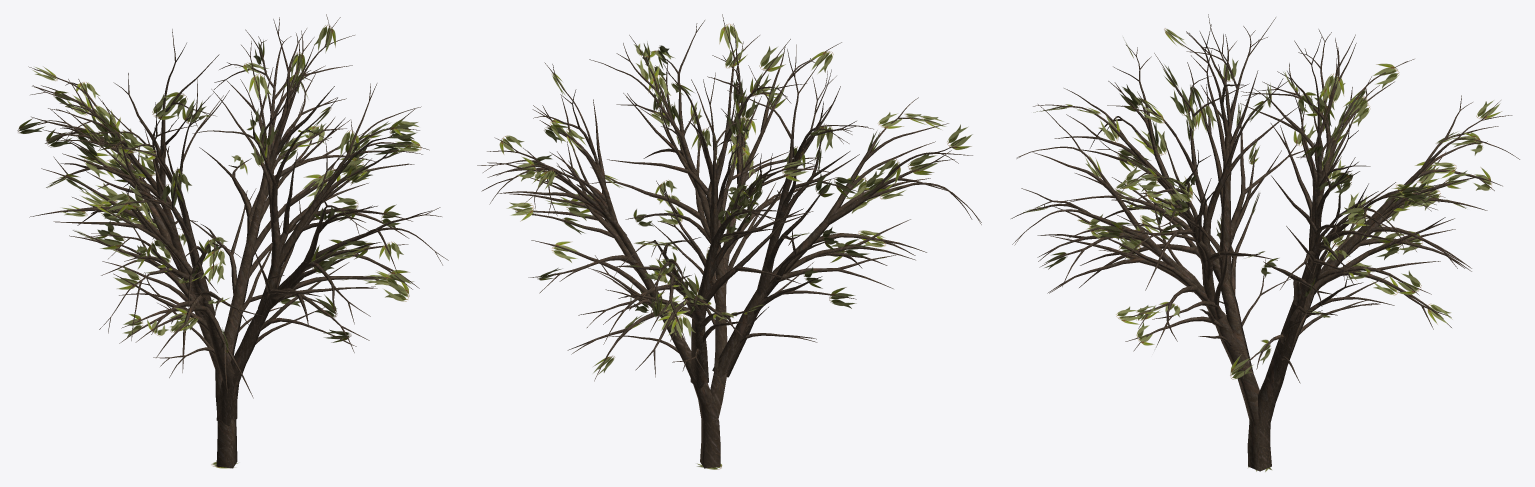
File: Tree.glb
The picture shows the model from 3 angles, left to right: view 1: azimuth 30°, elevation 25°; view 2: azimuth 150°, elevation 25°; view 3: azimuth 270°, elevation 25°; orthographic projection.
Visible parts, largest first — view 1: Tree; view 2: Tree; view 3: Tree.
Boxes of the visible parts, x1=… form: Tree: x1=27, y1=14, x2=448, y2=468; Tree: x1=477, y1=14, x2=981, y2=468; Tree: x1=1011, y1=14, x2=1519, y2=471.
Bounding box in the file's own units: 5.18 × 5.45 × 6.02.
2 materials, 2 textured.
